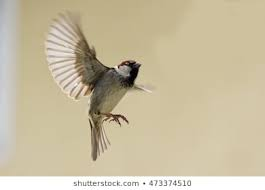hsparrow: (44, 7, 158, 166)
